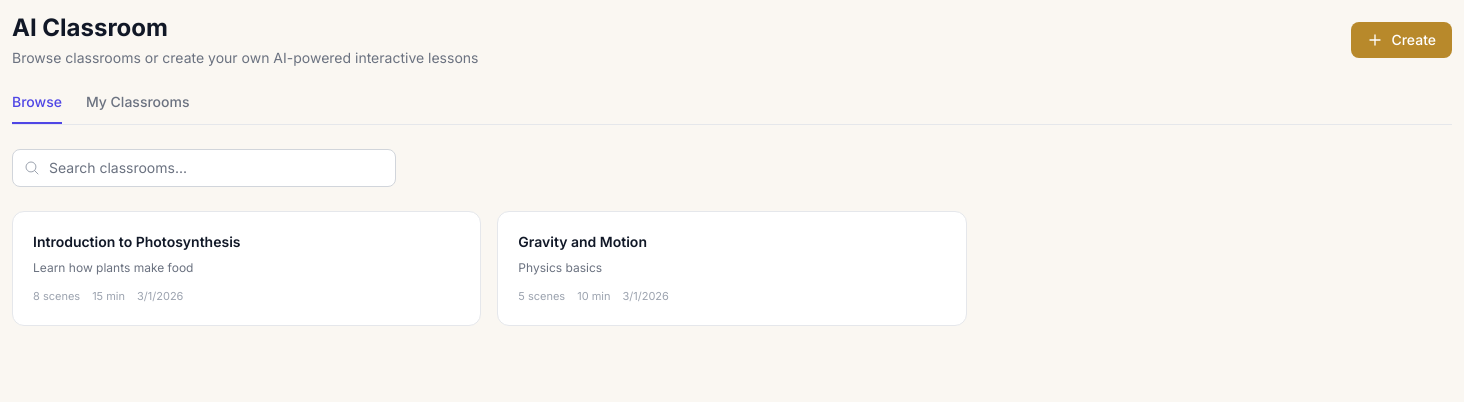
it: MAICBrowsePage › shows "No classrooms yet" when My Classrooms returns empty
Click the button "My Classrooms" at (138, 108), box left=86, top=92, right=189, bottom=124
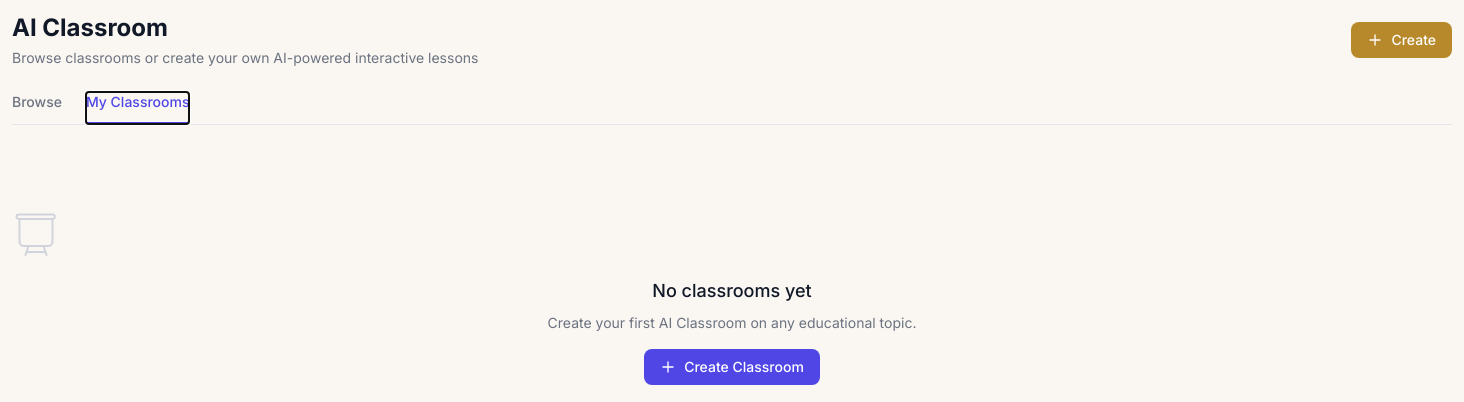
Result: the heading "No classrooms yet" is shown at left=652, top=280, right=812, bottom=301
Result: the text "Create your first AI Classroom on any educational topic." is shown at left=548, top=314, right=916, bottom=331
